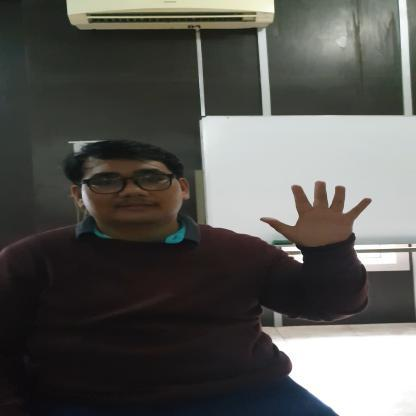Halo: (258, 178, 374, 249)
